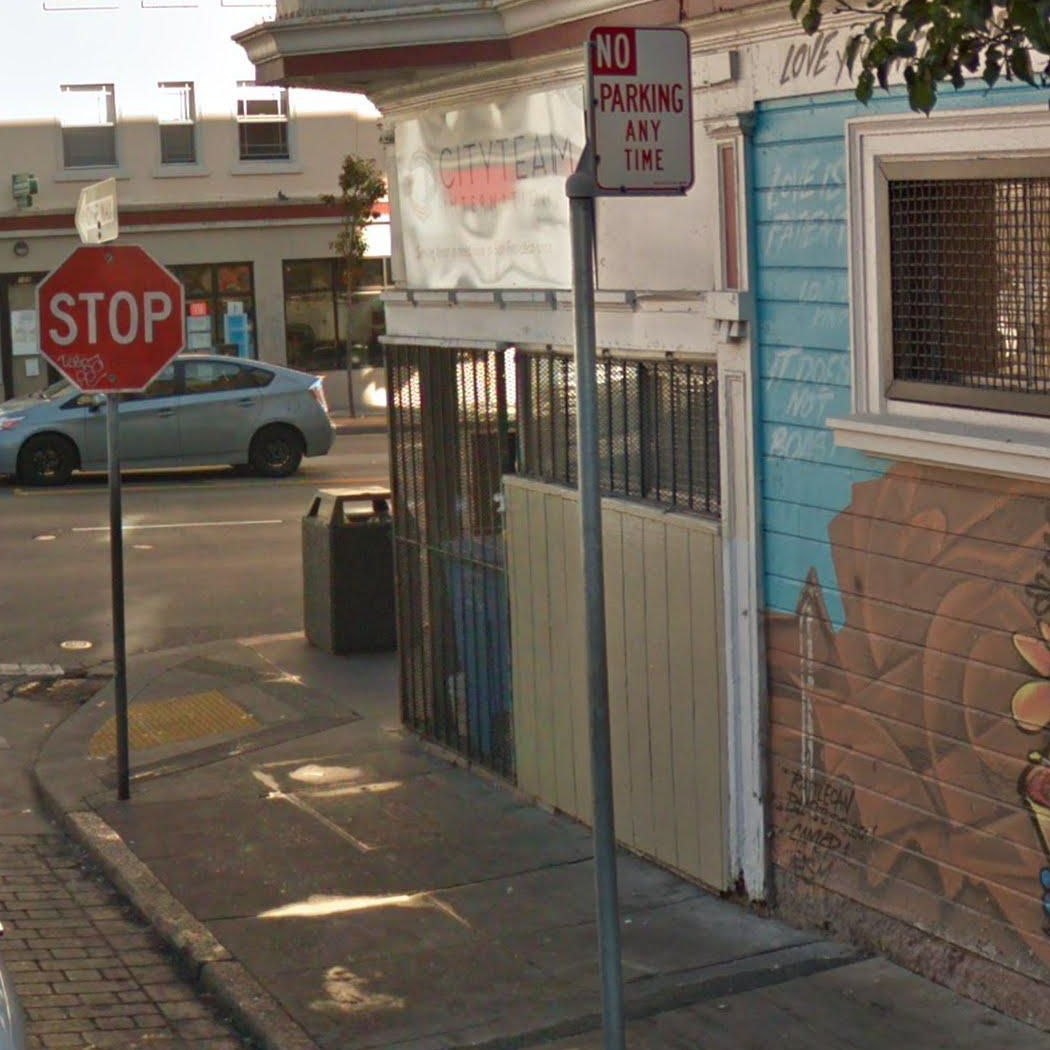No Parking Anytime: (585, 25, 694, 195)
